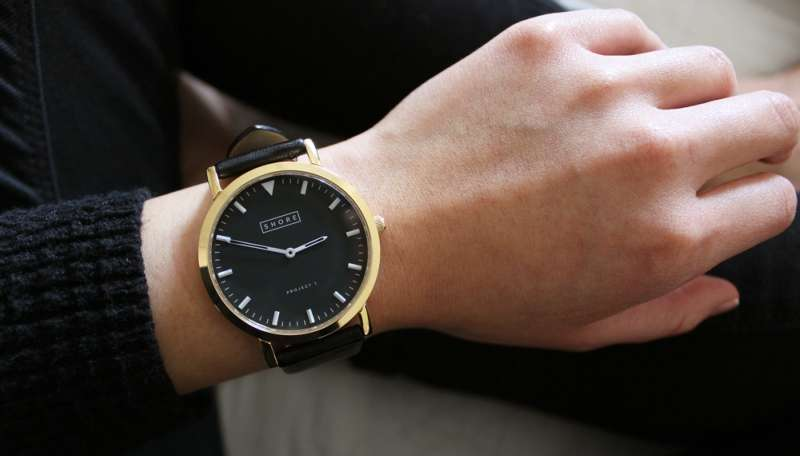clock: (208, 173, 371, 332)
